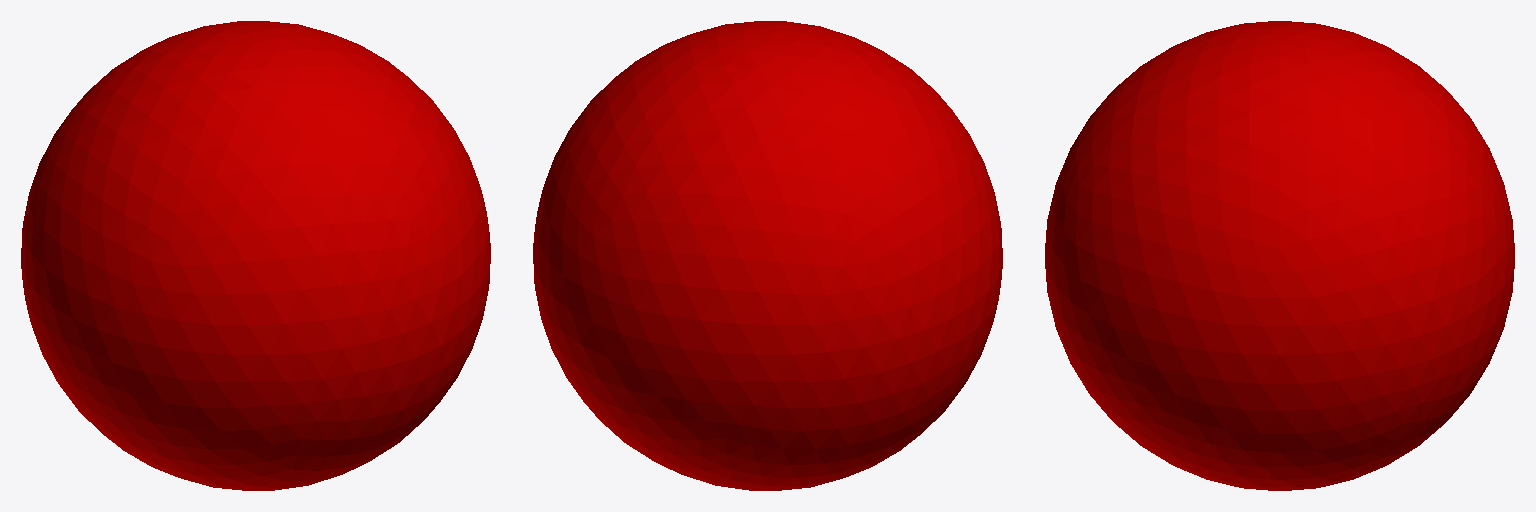
Rendered from readBall.obj.
The picture shows the model from 3 angles: view 1: azimuth 30°, elevation 25°; view 2: azimuth 150°, elevation 25°; view 3: azimuth 270°, elevation 25°; orthographic projection.
Visible parts, largest first — view 1: Icosphere; view 2: Icosphere; view 3: Icosphere.
Part boxes in pixels (x1,y1,x2,y2): Icosphere: (21, 21, 490, 490); Icosphere: (533, 21, 1002, 490); Icosphere: (1045, 21, 1514, 490).
Bounding box in the file's own units: 2 × 2 × 2.